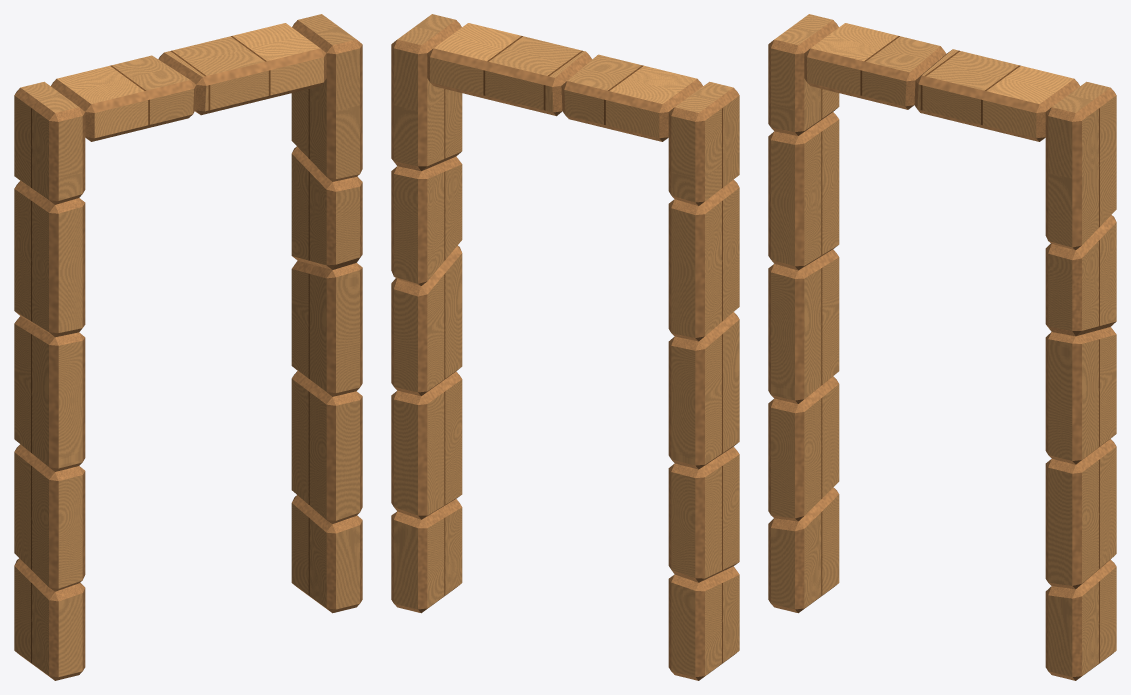
Rendered from Kit_Wood_DoorFrame_Fractured.fbx.
3 renders of one model, left to right at view 1: azimuth 30°, elevation 25°; view 2: azimuth 150°, elevation 25°; view 3: azimuth 330°, elevation 25°, orthographic.
Visible parts, largest first — view 1: Kit_Wood_DoorFrame_frag_04, Kit_Wood_DoorFrame_frag_12, Kit_Wood_DoorFrame_frag_03, Kit_Wood_DoorFrame_frag_07, Kit_Wood_DoorFrame_frag_10, Kit_Wood_DoorFrame_frag_08, Kit_Wood_DoorFrame_frag_02, Kit_Wood_DoorFrame_frag_11, Kit_Wood_DoorFrame_frag_05, Kit_Wood_DoorFrame_frag_09, Kit_Wood_DoorFrame_frag_01, Kit_Wood_DoorFrame_frag_06; view 2: Kit_Wood_DoorFrame_frag_04, Kit_Wood_DoorFrame_frag_12, Kit_Wood_DoorFrame_frag_03, Kit_Wood_DoorFrame_frag_07, Kit_Wood_DoorFrame_frag_10, Kit_Wood_DoorFrame_frag_08, Kit_Wood_DoorFrame_frag_02, Kit_Wood_DoorFrame_frag_11, Kit_Wood_DoorFrame_frag_09, Kit_Wood_DoorFrame_frag_05, Kit_Wood_DoorFrame_frag_01, Kit_Wood_DoorFrame_frag_06; view 3: Kit_Wood_DoorFrame_frag_10, Kit_Wood_DoorFrame_frag_04, Kit_Wood_DoorFrame_frag_12, Kit_Wood_DoorFrame_frag_03, Kit_Wood_DoorFrame_frag_07, Kit_Wood_DoorFrame_frag_08, Kit_Wood_DoorFrame_frag_02, Kit_Wood_DoorFrame_frag_11, Kit_Wood_DoorFrame_frag_09, Kit_Wood_DoorFrame_frag_01, Kit_Wood_DoorFrame_frag_06, Kit_Wood_DoorFrame_frag_05.
Boxes of the visible parts, box(x1,y1,x2,y2) form: Kit_Wood_DoorFrame_frag_04: box(14, 181, 85, 337); Kit_Wood_DoorFrame_frag_12: box(158, 23, 326, 115); Kit_Wood_DoorFrame_frag_03: box(14, 316, 85, 471); Kit_Wood_DoorFrame_frag_07: box(291, 371, 362, 523); Kit_Wood_DoorFrame_frag_10: box(291, 14, 362, 181); Kit_Wood_DoorFrame_frag_08: box(291, 260, 362, 396); Kit_Wood_DoorFrame_frag_02: box(14, 444, 85, 591); Kit_Wood_DoorFrame_frag_11: box(51, 55, 196, 141); Kit_Wood_DoorFrame_frag_05: box(14, 81, 85, 204); Kit_Wood_DoorFrame_frag_09: box(291, 146, 362, 269); Kit_Wood_DoorFrame_frag_01: box(14, 558, 85, 680); Kit_Wood_DoorFrame_frag_06: box(291, 495, 362, 613); Kit_Wood_DoorFrame_frag_04: box(668, 179, 739, 341); Kit_Wood_DoorFrame_frag_12: box(427, 23, 592, 116); Kit_Wood_DoorFrame_frag_03: box(668, 312, 739, 469); Kit_Wood_DoorFrame_frag_07: box(391, 371, 462, 519); Kit_Wood_DoorFrame_frag_10: box(391, 14, 462, 171); Kit_Wood_DoorFrame_frag_08: box(391, 245, 462, 396); Kit_Wood_DoorFrame_frag_02: box(668, 446, 739, 582); Kit_Wood_DoorFrame_frag_11: box(561, 54, 702, 141); Kit_Wood_DoorFrame_frag_09: box(391, 156, 462, 285); Kit_Wood_DoorFrame_frag_05: box(668, 81, 739, 205); Kit_Wood_DoorFrame_frag_01: box(668, 566, 739, 680); Kit_Wood_DoorFrame_frag_06: box(391, 499, 462, 613); Kit_Wood_DoorFrame_frag_10: box(1045, 81, 1116, 250); Kit_Wood_DoorFrame_frag_04: box(768, 112, 839, 270); Kit_Wood_DoorFrame_frag_12: box(914, 49, 1079, 141); Kit_Wood_DoorFrame_frag_03: box(768, 249, 839, 403); Kit_Wood_DoorFrame_frag_07: box(1045, 439, 1116, 589); Kit_Wood_DoorFrame_frag_08: box(1045, 327, 1116, 464); Kit_Wood_DoorFrame_frag_02: box(768, 376, 839, 521); Kit_Wood_DoorFrame_frag_11: box(804, 23, 946, 109); Kit_Wood_DoorFrame_frag_09: box(1045, 215, 1116, 336); Kit_Wood_DoorFrame_frag_01: box(768, 487, 839, 613); Kit_Wood_DoorFrame_frag_06: box(1045, 559, 1116, 680); Kit_Wood_DoorFrame_frag_05: box(768, 14, 839, 135).
Size of what is drawn, in the model's own units: 1.3 by 2.25 by 0.3.
2 materials, 2 textured.
